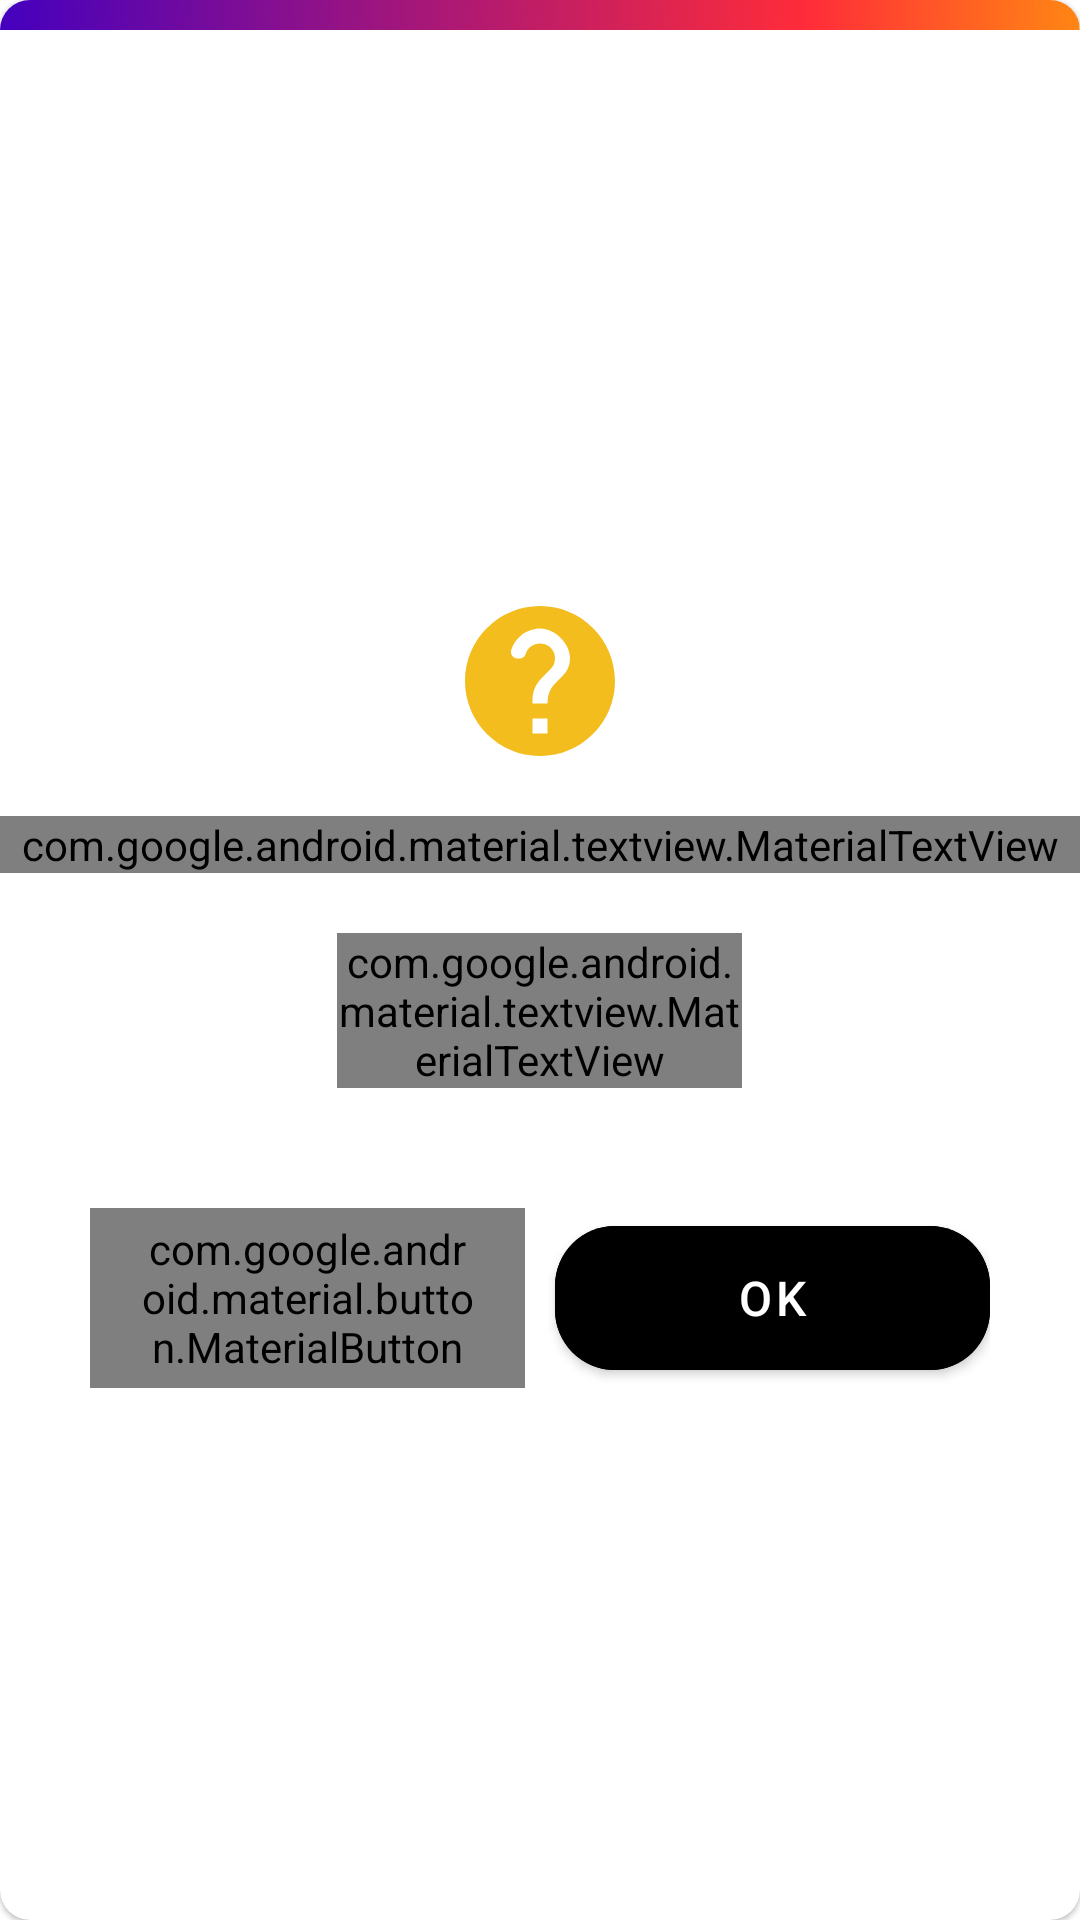

Named icons in this screenshot (1080 × 1920) and their bounding boxes, (x1, y1, x2, y2):
question mark: (465, 606, 615, 756)
